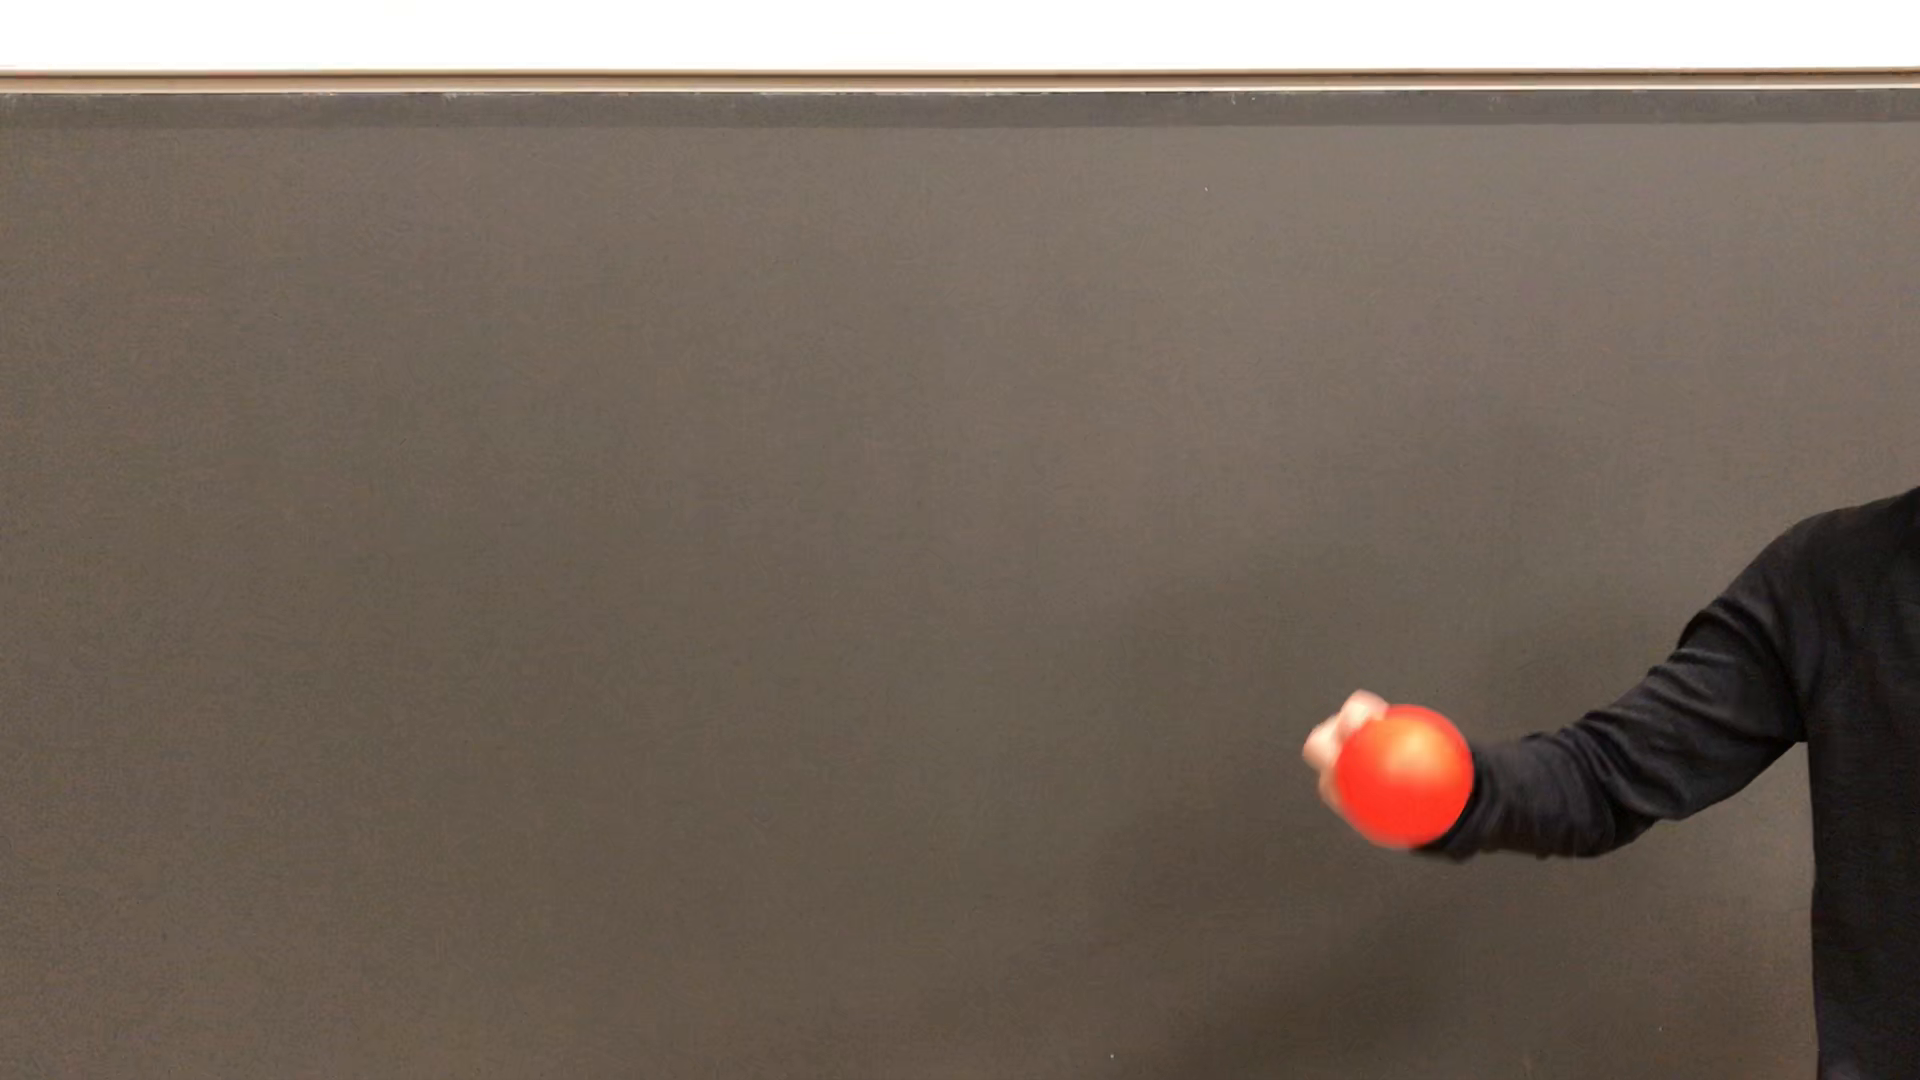Ball: (1335, 707, 1480, 851)
